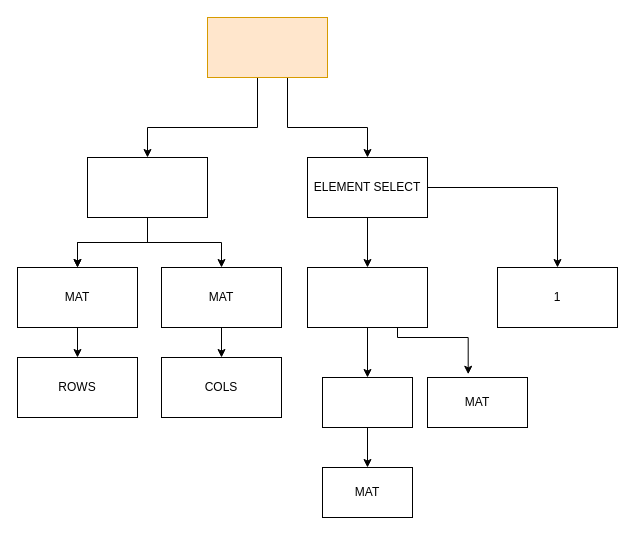
The diagram is 635 pixels wide and 535 high, and some of its shapes have lost their labels. The shapes that lost their labels are listed below. From the top down, each one's centre as x and y in pixels, then its label:
At [267,47]: "DOT PRODUCT".
At [147,187]: "STRUCTUREINIT".
At [367,297]: "MATRIX MULT".
At [367,402]: "TRANSPOSE".
